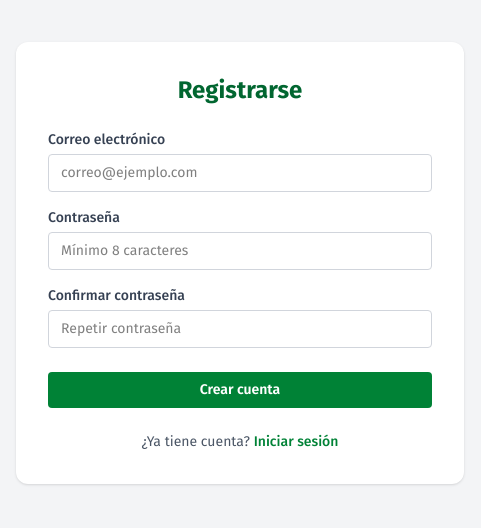
Test: RegisterPage › shows error when passwords do not match
In the field labelled "Correo electrónico": (240, 173) [48,154,432,192], type "new@test.com"
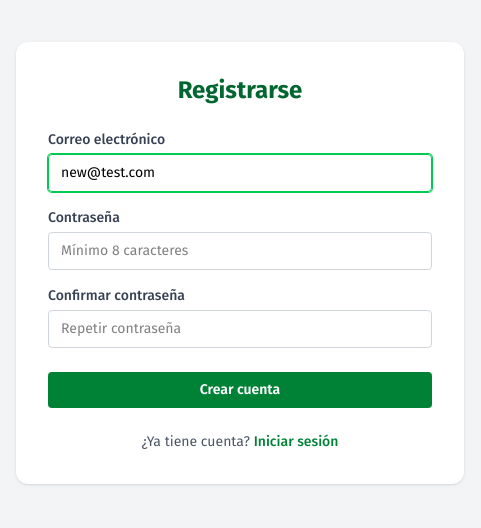
In the password field labelled "Contraseña": (240, 251) [48,232,432,270], type "secret123"
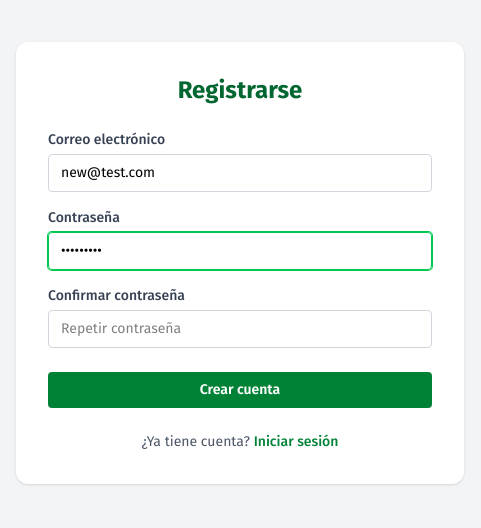
In the password field labelled "Confirmar contraseña": (240, 329) [48,310,432,348], type "different"
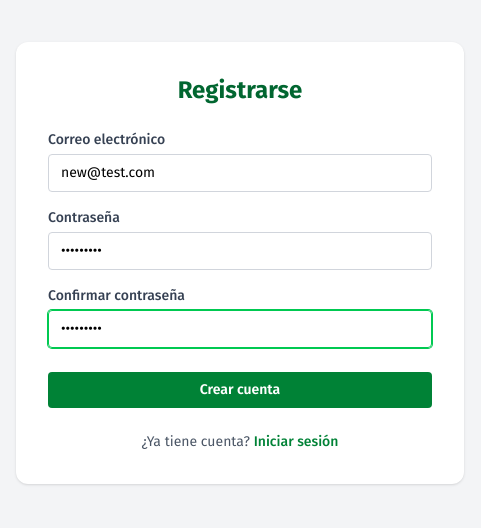
Click the button "Crear cuenta": click(240, 390) [48,372,432,408]
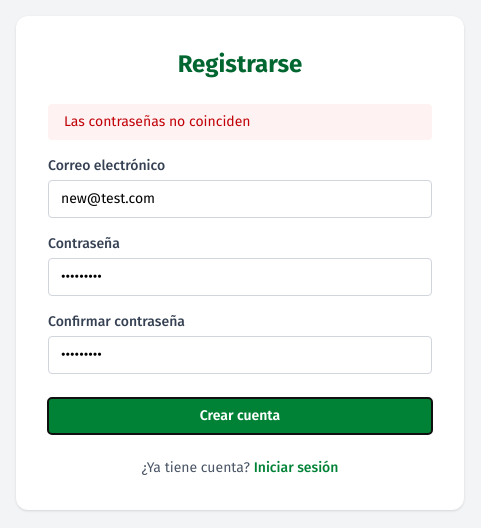
Check: the text "Las contraseñas no coinciden" is shown, box [48,104,432,140]
